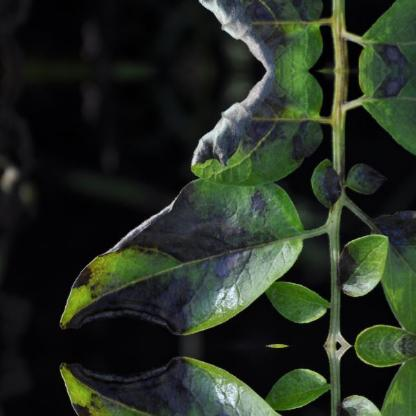Late-Blight: (54, 188, 306, 340), (169, 70, 335, 182), (53, 351, 306, 416), (169, 0, 335, 70), (331, 218, 397, 300), (342, 162, 392, 198), (331, 391, 397, 416)
